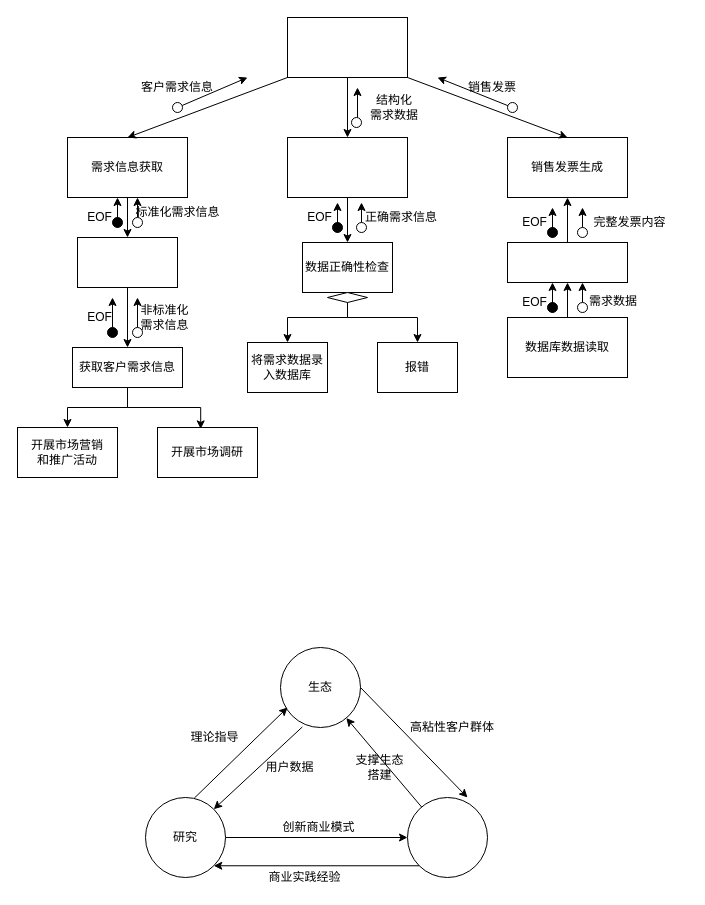
This 705x905 diagram has some shape labels left out. Each missing label, with the centre of its shape:
其他必要信息添加: pixel 567 262
录入客户需求: pixel 127 262
电商: pixel 447 837
需求信息整理: pixel 347 167
需求收集: pixel 347 47
